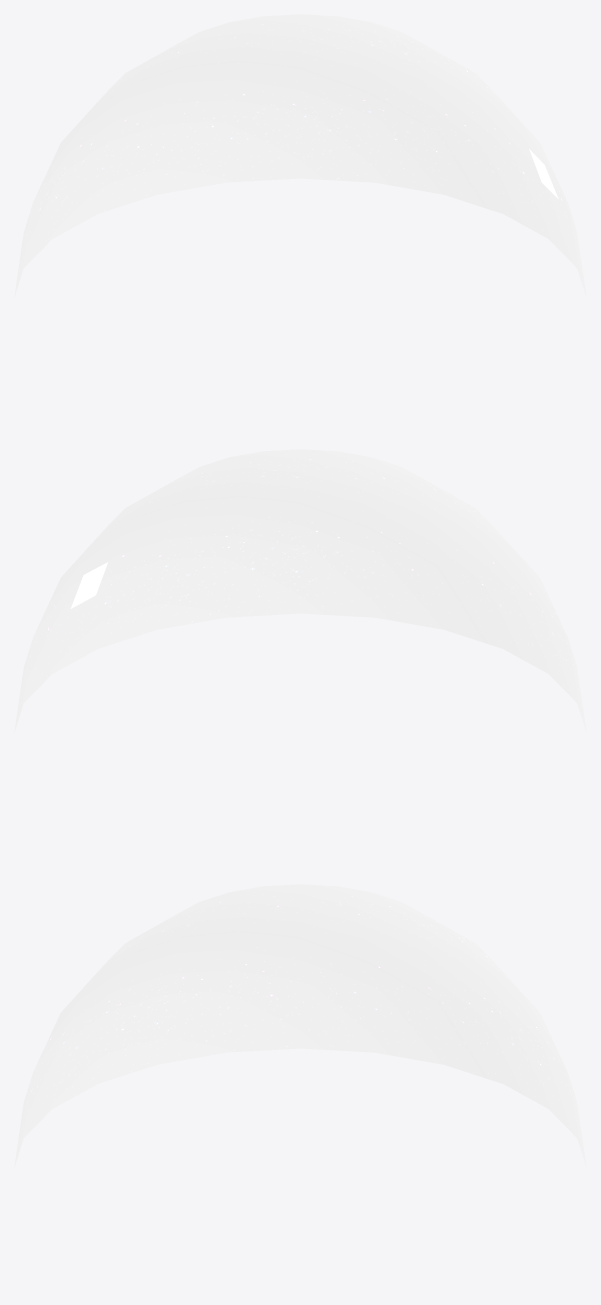
File: sky_moon0001.glb
The picture shows the model from 3 angles, top to bottom: view 1: azimuth 30°, elevation 25°; view 2: azimuth 150°, elevation 25°; view 3: azimuth 270°, elevation 25°; orthographic projection.
Visible parts, largest first — view 1: sky_moon0001; view 2: sky_moon0001; view 3: sky_moon0001.
Boxes of the visible parts, bbox=[...] form: sky_moon0001: bbox=[14, 14, 586, 297]; sky_moon0001: bbox=[14, 449, 586, 732]; sky_moon0001: bbox=[14, 884, 586, 1167].
Bounding box in the file's own units: 1.95 × 0.8425 × 1.95.
Materials: 2 (2 with a texture image).
